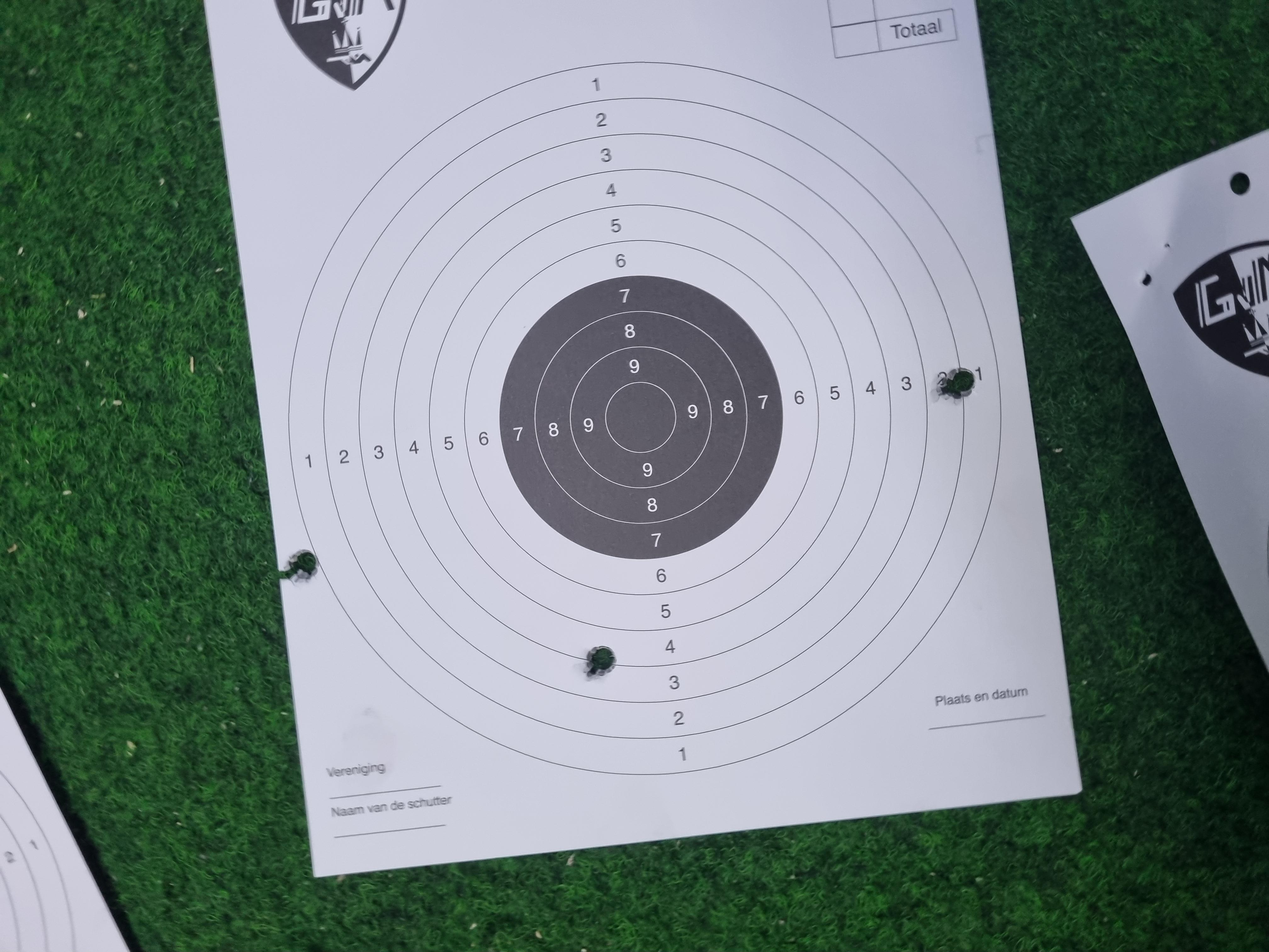hole: (734, 704, 779, 732), (494, 215, 537, 241), (364, 437, 408, 462)
